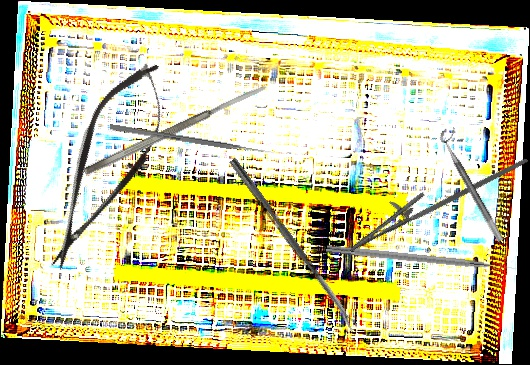Fixation Ring: (437, 125, 513, 243)
Hook Surgical: (326, 243, 518, 275)
Micro Scissor: (25, 49, 187, 284)
Needle Holder: (341, 125, 529, 272)
Pusher: (109, 124, 275, 156)
Spatula Surgical: (82, 81, 270, 178)
Surgical Spoon: (228, 157, 358, 332)
